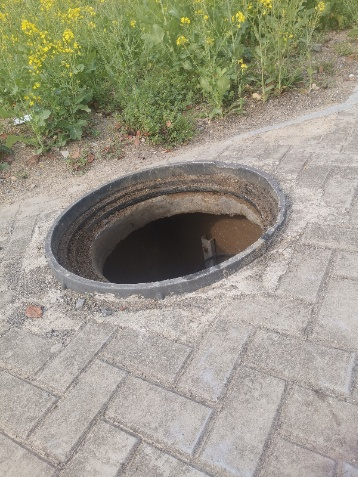well: (45, 158, 289, 295)
